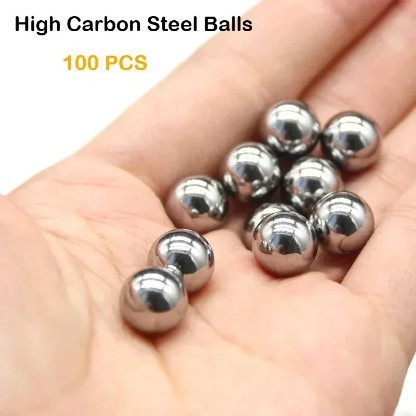ironball: (118, 265, 188, 333), (146, 227, 214, 293), (251, 210, 318, 276), (308, 189, 374, 255), (320, 110, 381, 172), (282, 154, 343, 216), (164, 174, 228, 233), (220, 140, 280, 202), (260, 98, 320, 156), (241, 201, 296, 250)
